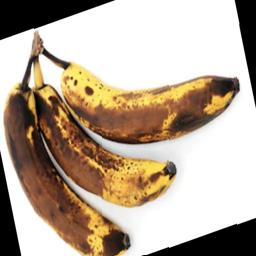Banana Rotten: (0, 21, 256, 256)
